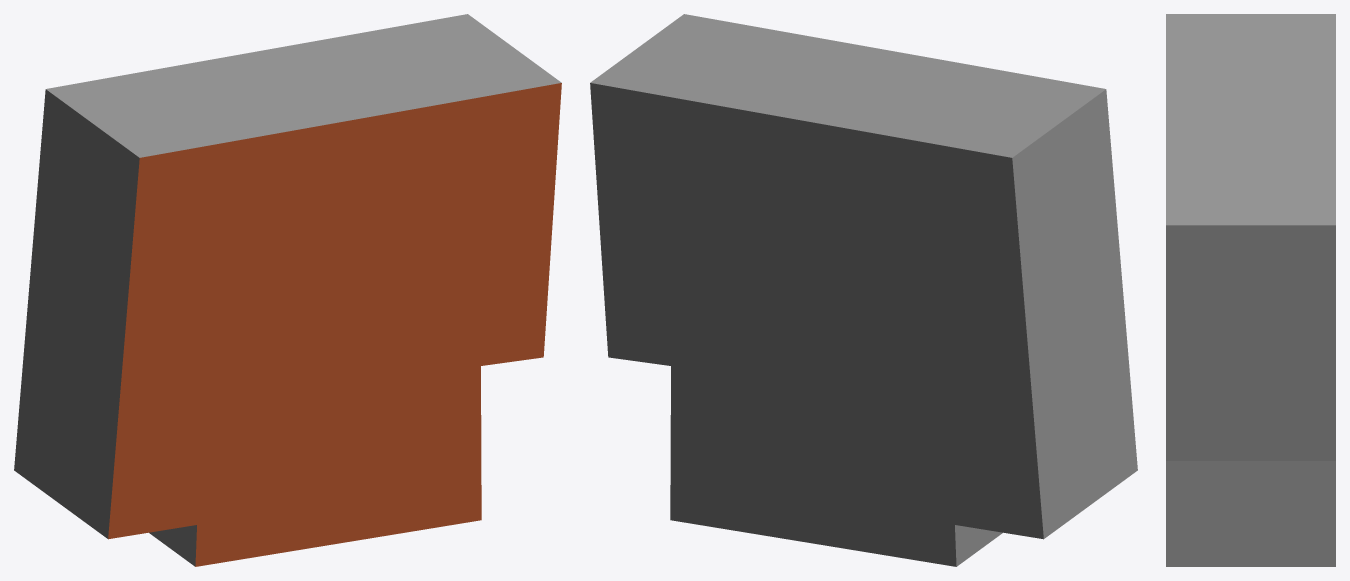
The model's file is construction_4167_assumed_A_Casa_h6m.obj.
3 renders of one model, left to right at view 1: azimuth 30°, elevation 25°; view 2: azimuth 150°, elevation 25°; view 3: azimuth 270°, elevation 25°, orthographic. The views are drawn at different scales.
Parts seen in each view (by area): view 1: construction_4167_assumed_A_Casa; view 2: construction_4167_assumed_A_Casa; view 3: construction_4167_assumed_A_Casa.
Boxes of the visible parts, x1,y1,x2,y2 form: construction_4167_assumed_A_Casa: (14,14,561,566); construction_4167_assumed_A_Casa: (590,14,1137,566); construction_4167_assumed_A_Casa: (1166,14,1335,566).
Size of the model in its own units: 16.71 by 15.69 by 6.
